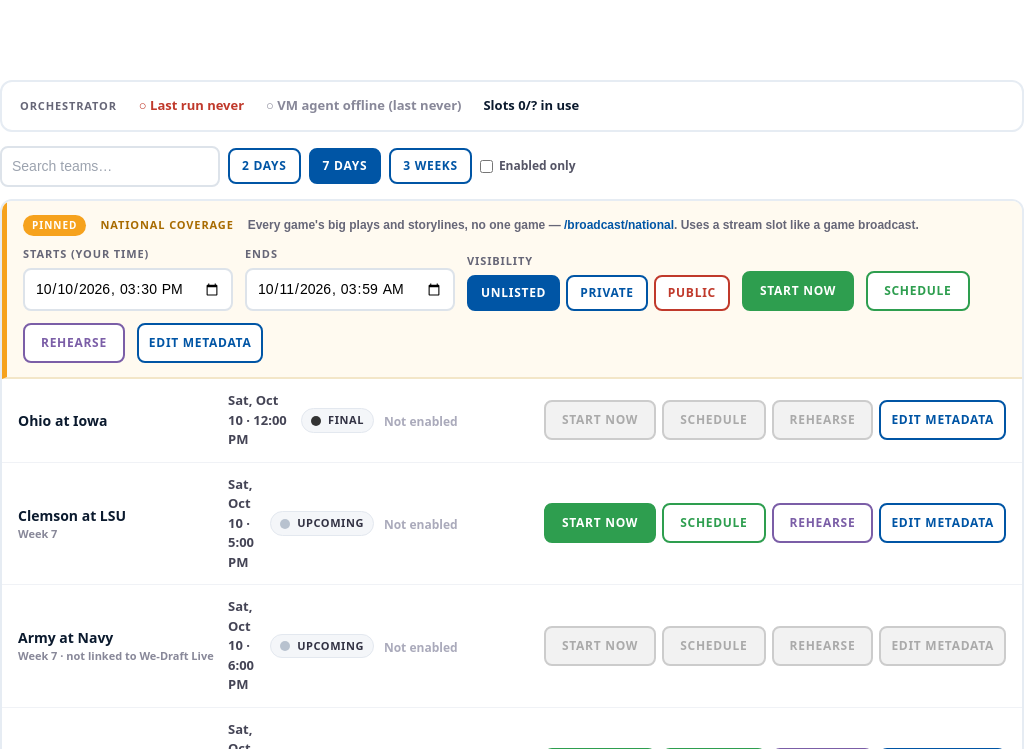
Test: AutoSchedule › server errors are shown
What coordinates should you click on to do the following:
click the button "Start Now" in the row of "LSU"
I would click on:
 (600, 523)
Its box is x1=544 y1=503 x2=656 y2=543.
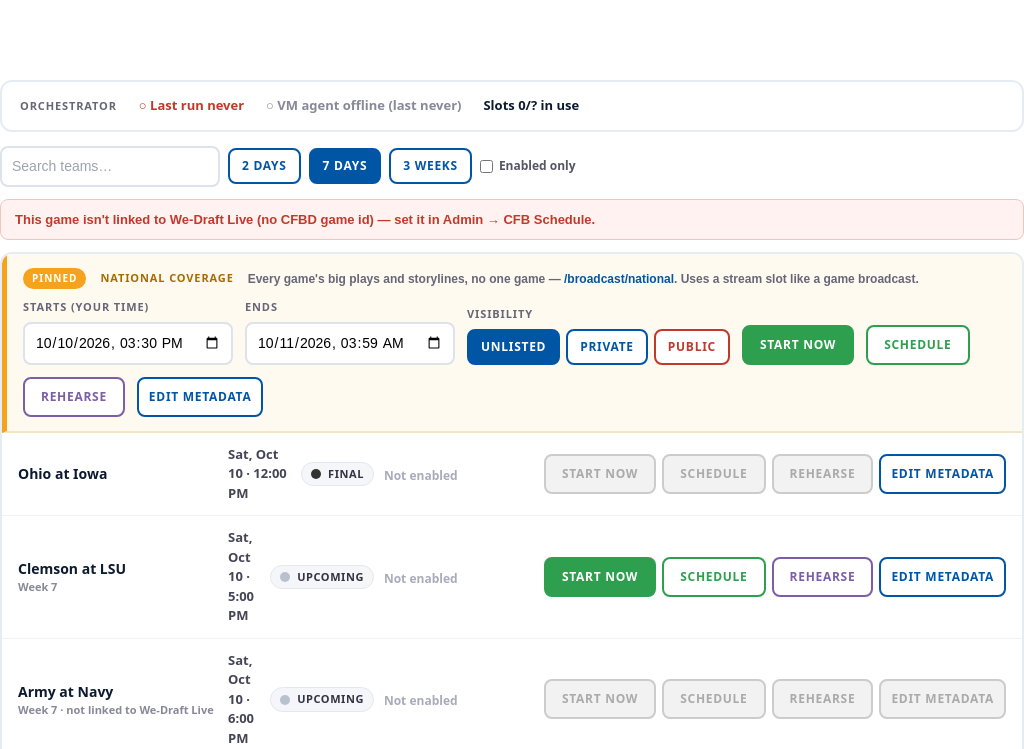
Check: the text "isn't linked to We-Draft Live" is shown, box x1=15 y1=212 x2=595 y2=226
